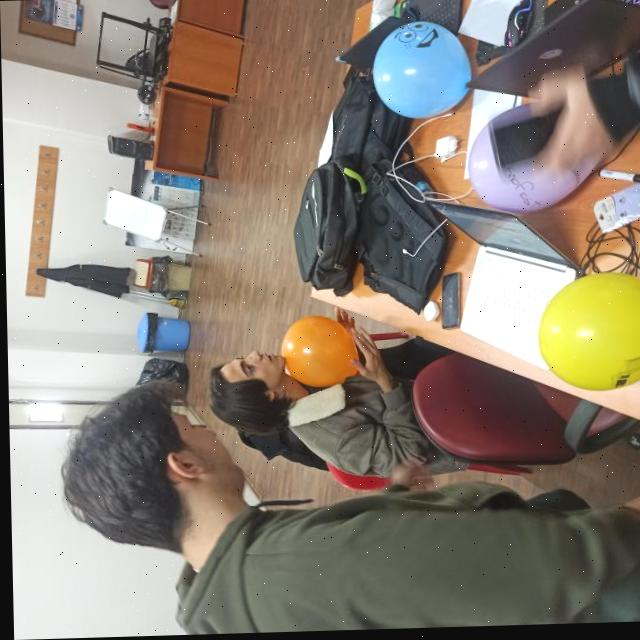balloon: (463, 100, 594, 206), (533, 273, 640, 393), (371, 23, 470, 117), (278, 315, 356, 390)
